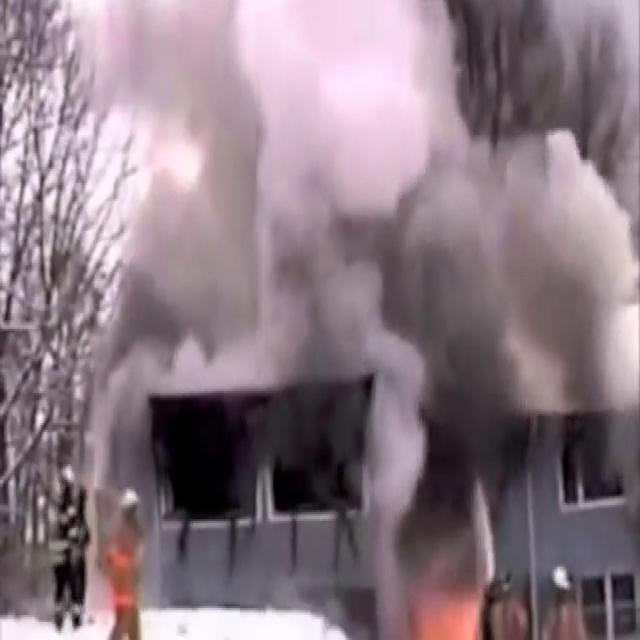Smoke: (47, 0, 640, 597)
